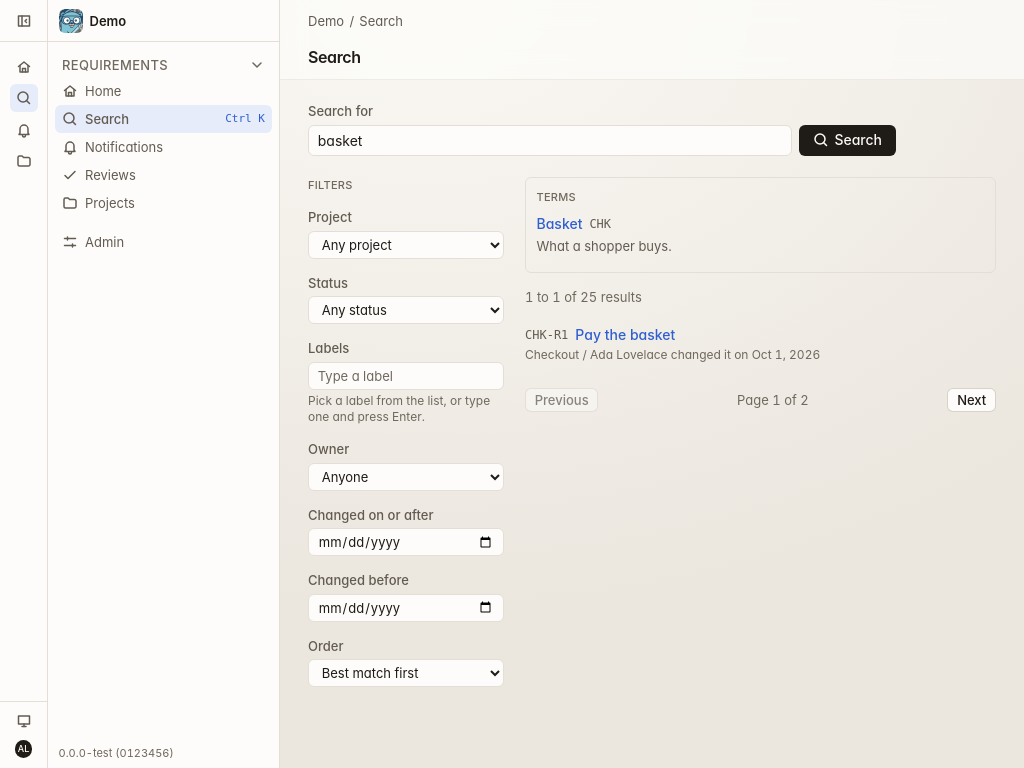
Test case: the search's filters › shows the glossary's terms above the first page of hits alone
Expected: the text "1 to 1 of 25 results" is shown, x1=525 y1=289 x2=642 y2=305
Expected: the list item "Basket CHK What a shopper buys." is shown, x1=536 y1=215 x2=672 y2=254
Click the button "Next".
click(972, 400)  # box x1=947 y1=388 x2=996 y2=412
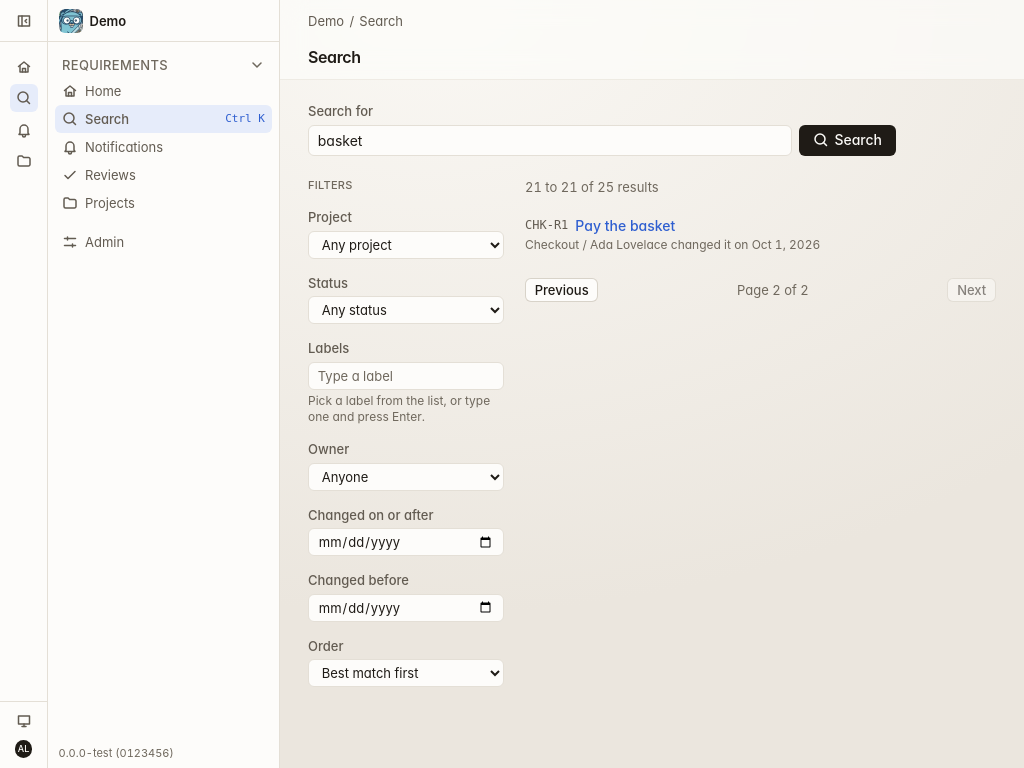
Expected: the text "21 to 21 of 25 results" is shown, x1=525 y1=179 x2=659 y2=195
